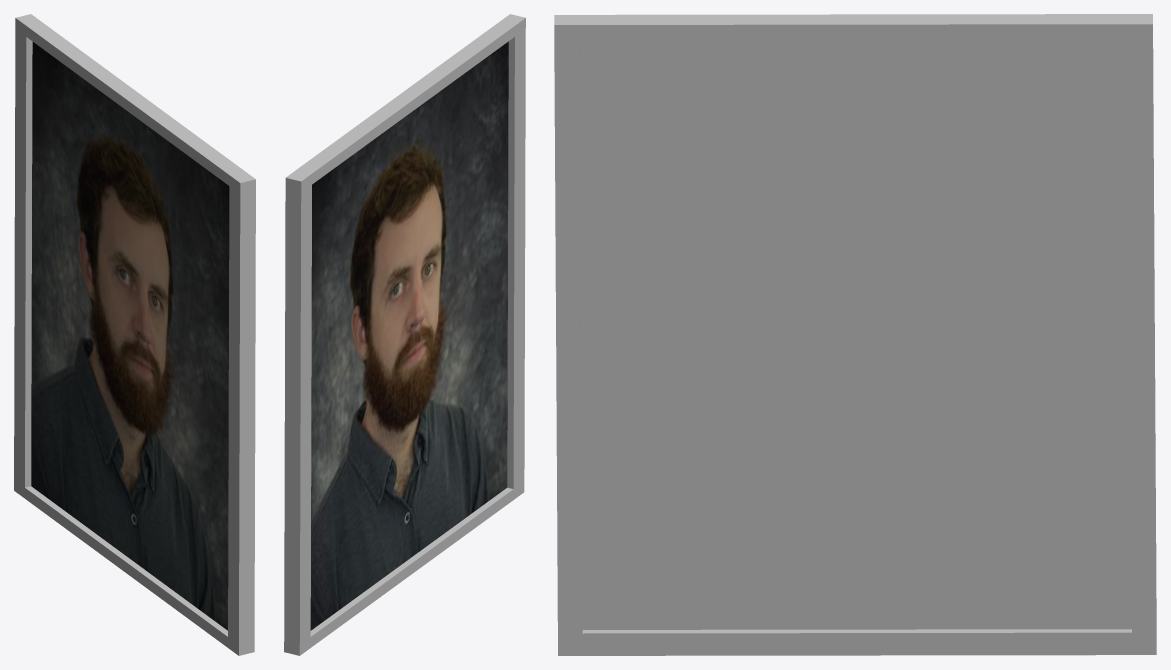
Rendered from pictureframe.obj.
3 views of the same model, side by side, from view 1: azimuth 30°, elevation 25°; view 2: azimuth 150°, elevation 25°; view 3: azimuth 270°, elevation 25° (orthographic). The views are drawn at different scales.
Parts seen in each view (by area): view 1: Cube; view 2: Cube; view 3: Cube.
Boxes of the visible parts, x1=… form: Cube: x1=14, y1=14, x2=255, y2=655; Cube: x1=284, y1=14, x2=525, y2=655; Cube: x1=554, y1=14, x2=1156, y2=655.
Size of the model in its own units: 0.1443 by 4.18 by 3.61.
